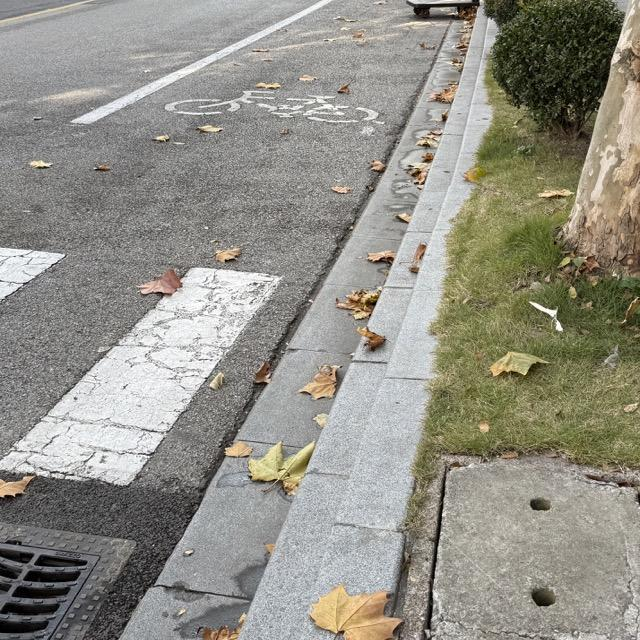curb: (240, 12, 487, 639), (310, 21, 496, 639), (0, 0, 95, 27)
